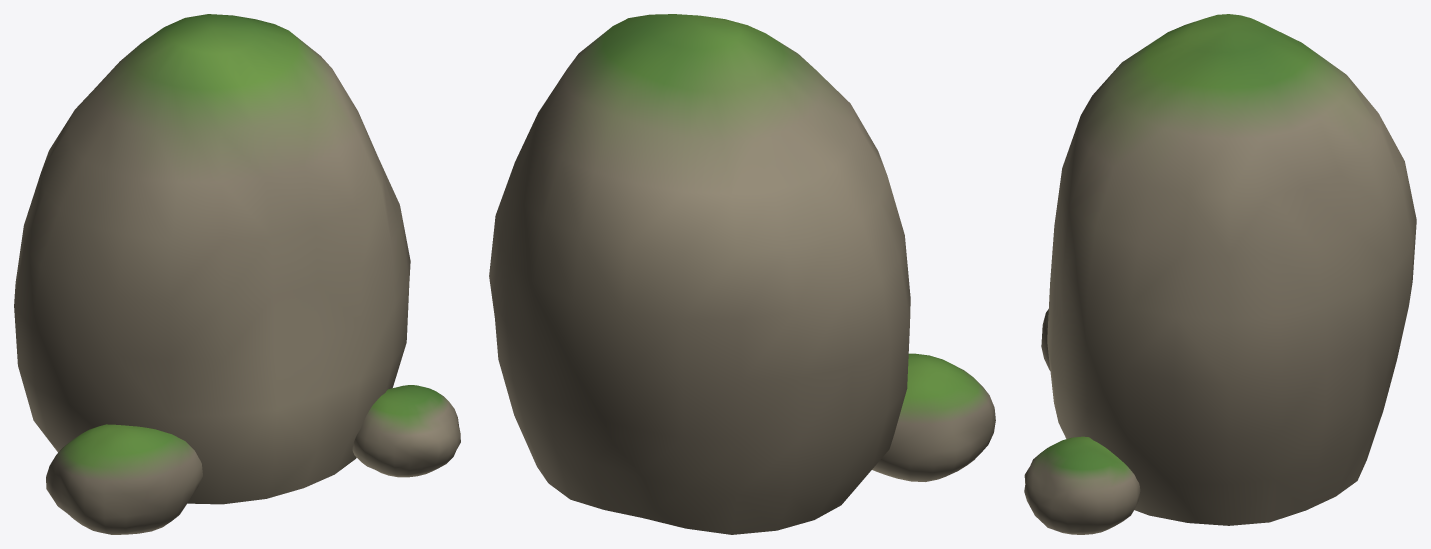
Rendered from RockB.fbx.
3 views of the same model, side by side, from view 1: azimuth 30°, elevation 25°; view 2: azimuth 150°, elevation 25°; view 3: azimuth 270°, elevation 25° (orthographic). The views are drawn at different scales.
Visible parts, largest first — view 1: RockB; view 2: RockB; view 3: RockB.
Part boxes in pixels (x1,y1,x2,y2): RockB: (14, 14, 460, 534); RockB: (489, 14, 995, 534); RockB: (1024, 14, 1416, 534).
Size of the model in its own units: 0.8014 by 0.812 by 0.6722.
